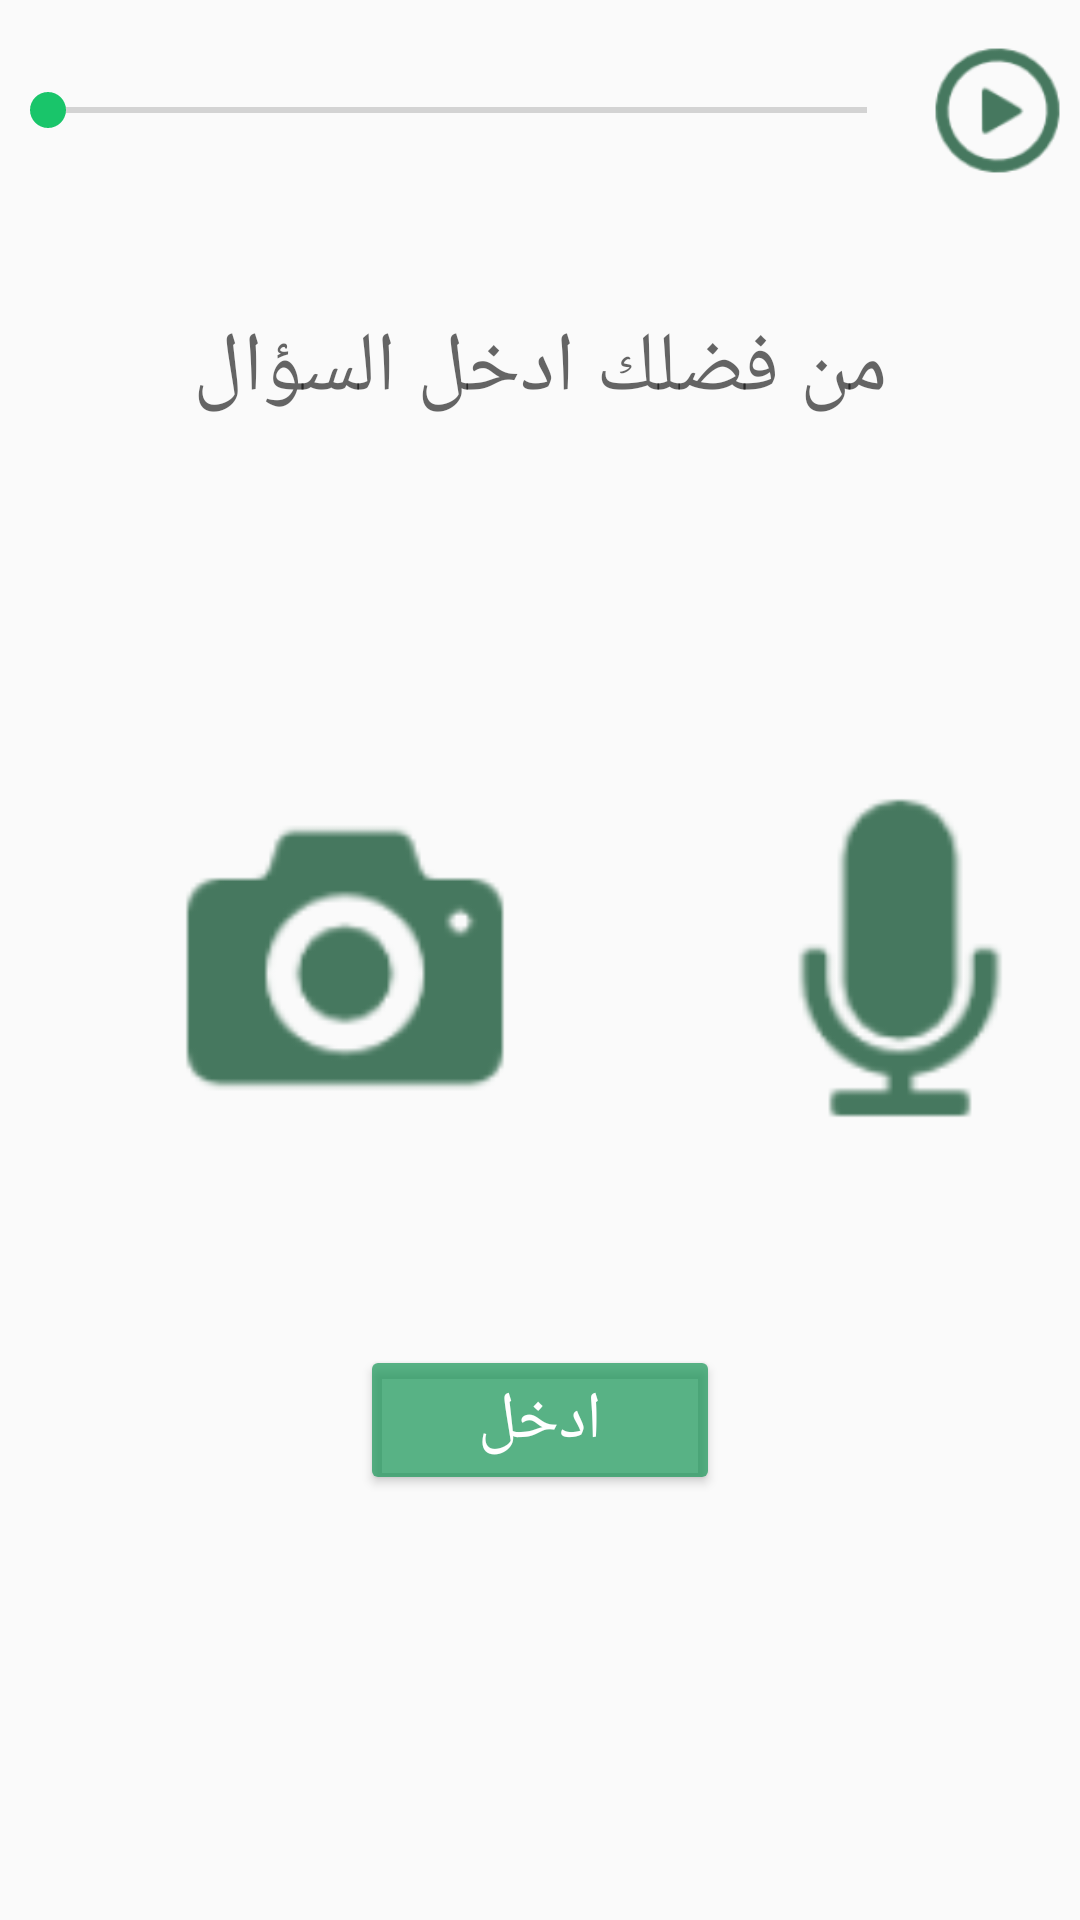

Locate icon controls on the screen. Image size 1080px x 1920px, boxes as (x1,y1,x2,y2).
camera: (186,829,504,1087)
mic: (799,799,1001,1117)
play: (935,48,1060,173)
